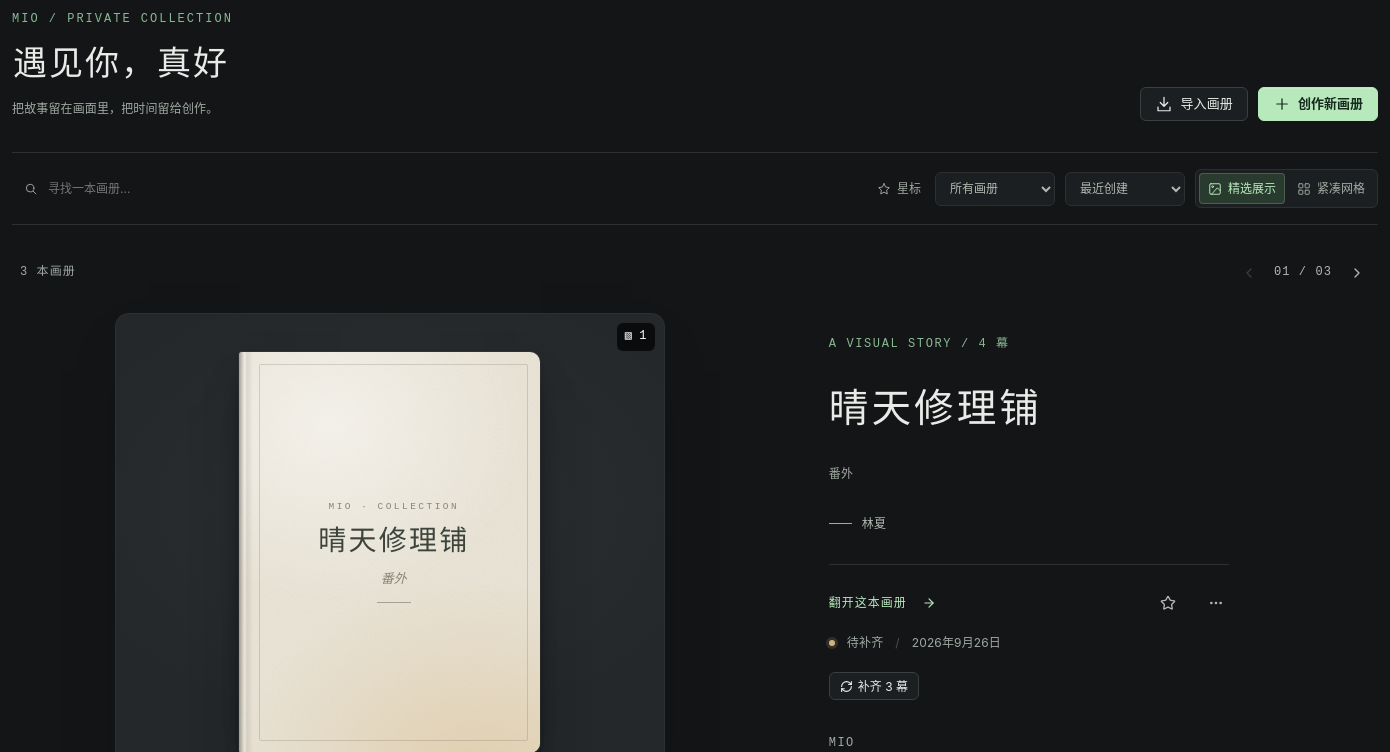
WorksPage showcase › features one book at a time and leafs through with the buttons and arrow keys
Expected: the heading "晴天修理铺" is shown, x1=829 y1=386 x2=1042 y2=430
Expected: the text "Night Shift" is not shown
Click the button named "下一册" at (1357, 273), box x1=1344 y1=258 x2=1370 y2=288
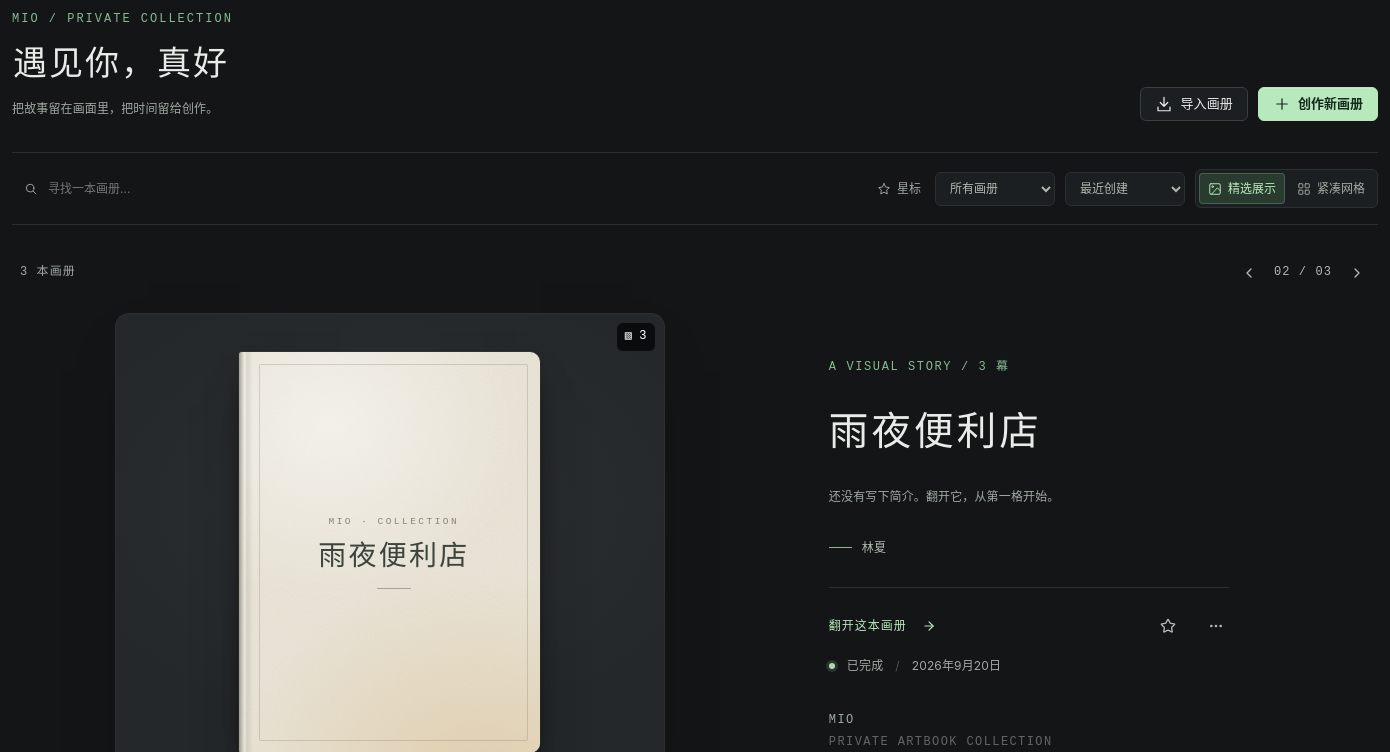
Now the heading "雨夜便利店" is shown, box x1=829 y1=410 x2=1042 y2=454
Press ArrowRight
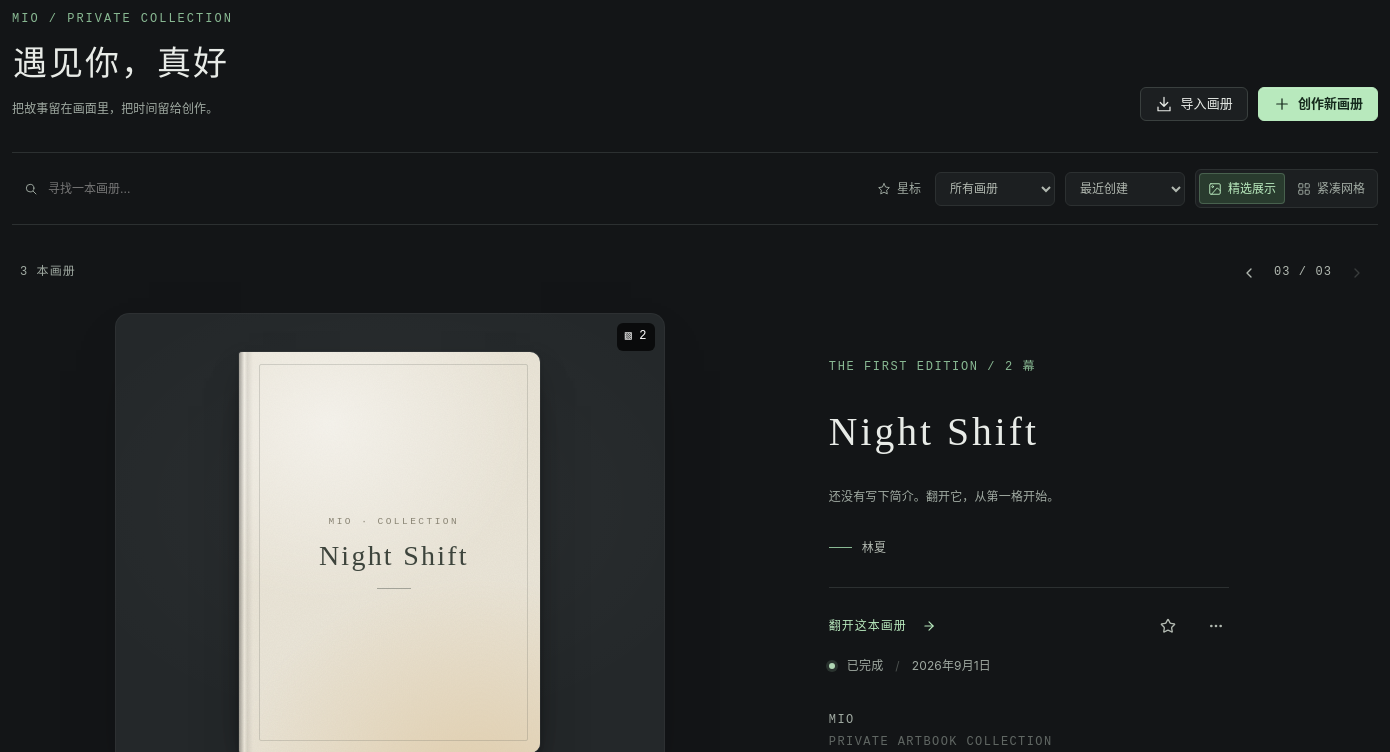
Now the heading "Night Shift" is shown, box x1=829 y1=410 x2=1039 y2=454
Now the text "03 / 03" is shown, box x1=1271 y1=262 x2=1335 y2=284
Now the button named "下一册" is disabled, box x1=1344 y1=258 x2=1370 y2=288
Press ArrowLeft
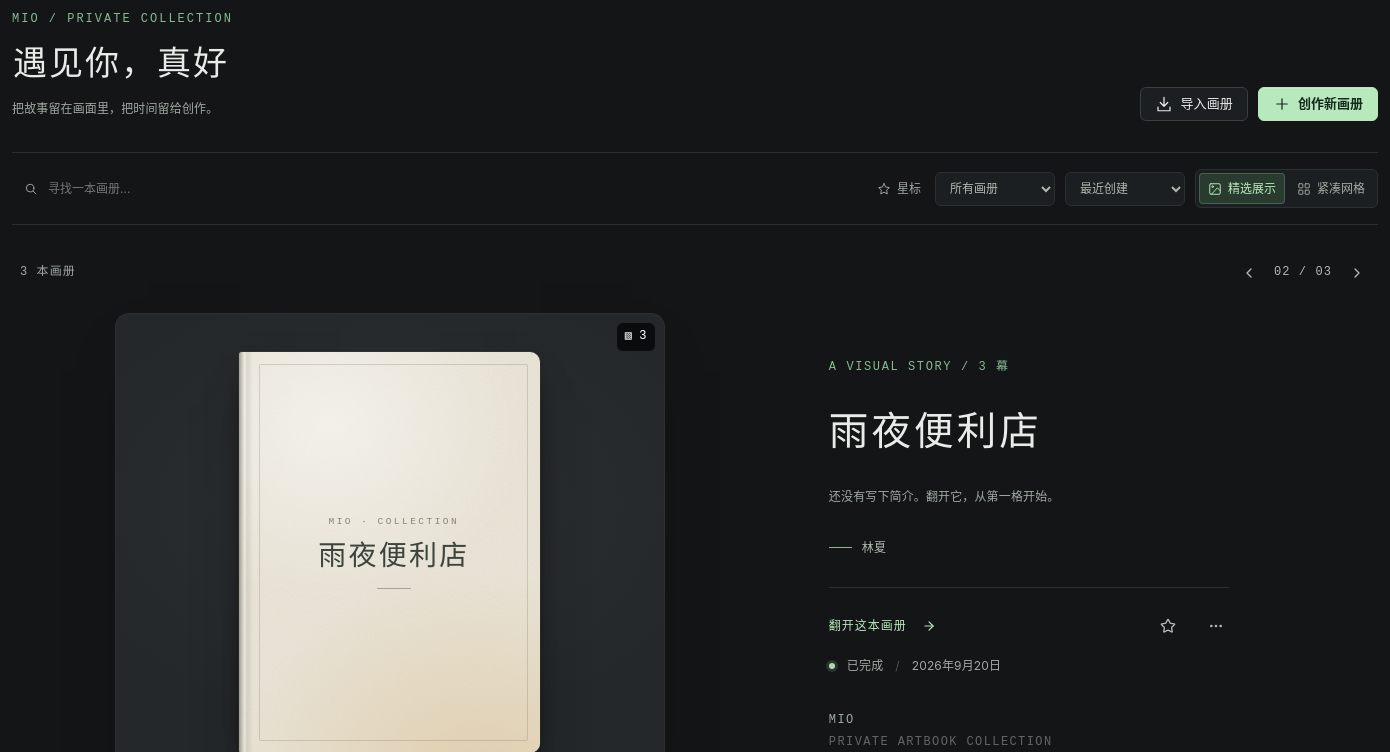
Now the text "02 / 03" is shown, box x1=1271 y1=262 x2=1335 y2=284
// 紧凑网格 shows the whole shelf, and the choice is remembered.
Click the button "紧凑网格" at (1331, 189), box x1=1288 y1=173 x2=1374 y2=204
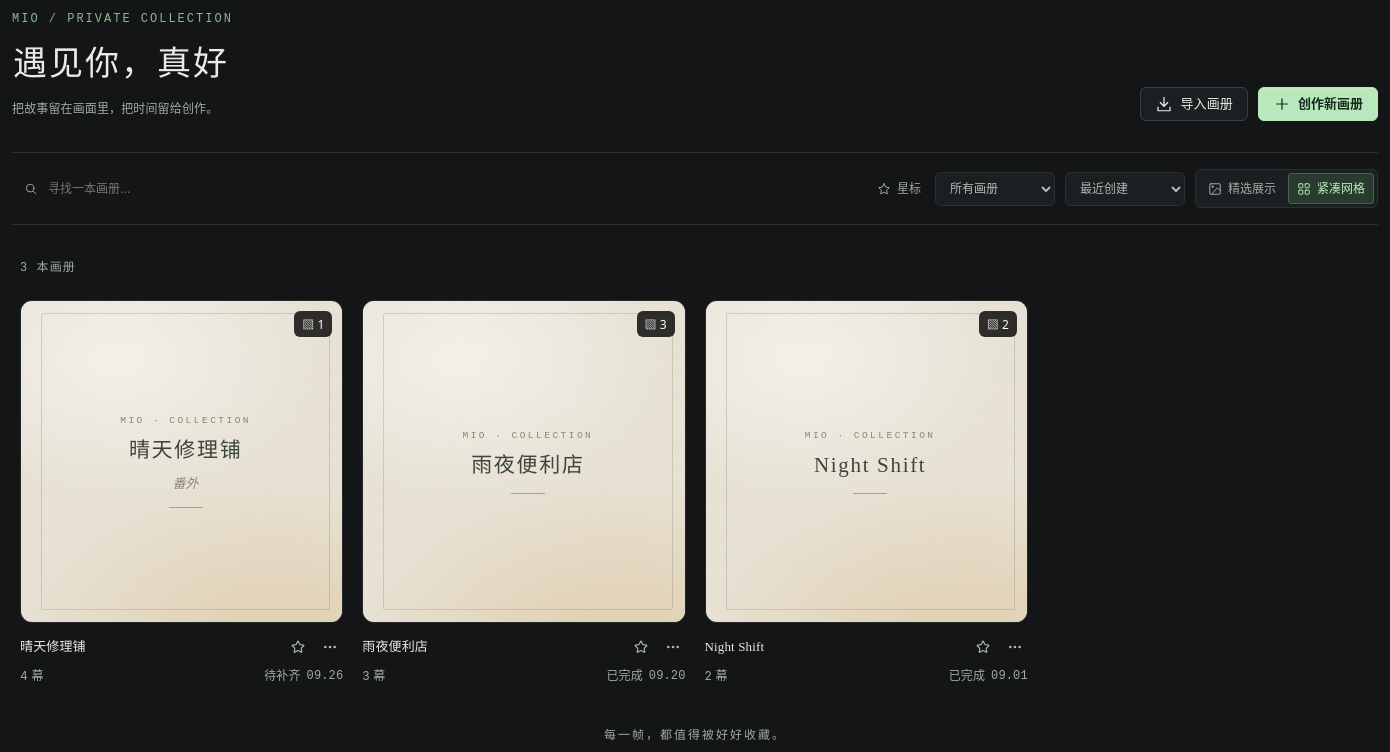
Now the heading "Night Shift" is shown, box x1=704 y1=639 x2=764 y2=654
Now the heading "晴天修理铺" is shown, box x1=20 y1=639 x2=86 y2=654
